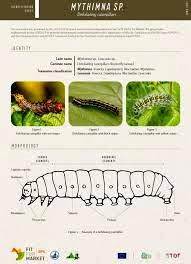Caterpillar: (12, 87, 63, 118), (130, 89, 179, 120), (72, 92, 121, 120)
